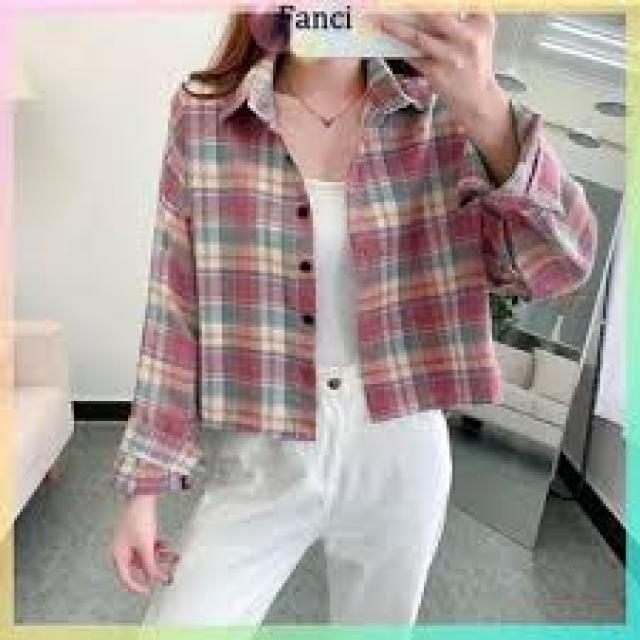plaid: (116, 43, 594, 474)
